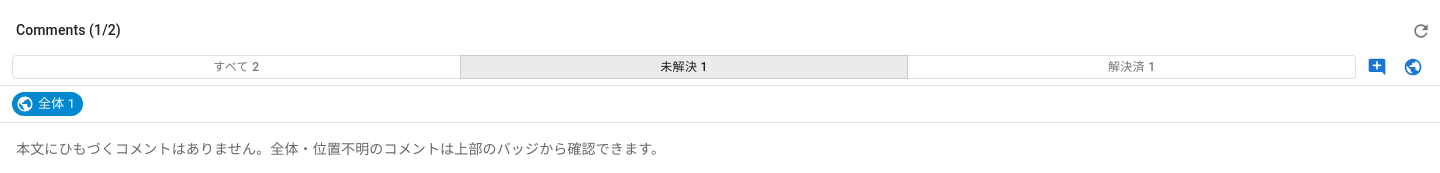
Test: CommentSidePane › global/orphan badges (#316) › follows the status filter: switching to resolved only counts resolved global/orphan comments
Expected: the button with test id "global-comment-badge" reads "全体 1", top-left (12, 92), bottom-right (83, 116)
Click the button with test id "comment-filter-resolved": (1132, 67) top-left (907, 55), bottom-right (1356, 79)
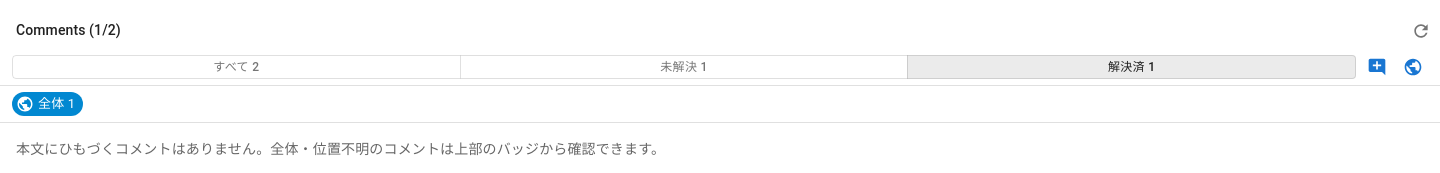
Expected: the button with test id "global-comment-badge" reads "全体 1", top-left (12, 92), bottom-right (83, 116)
Click the button with test id "comment-filter-all": (236, 67) top-left (12, 55), bottom-right (461, 79)
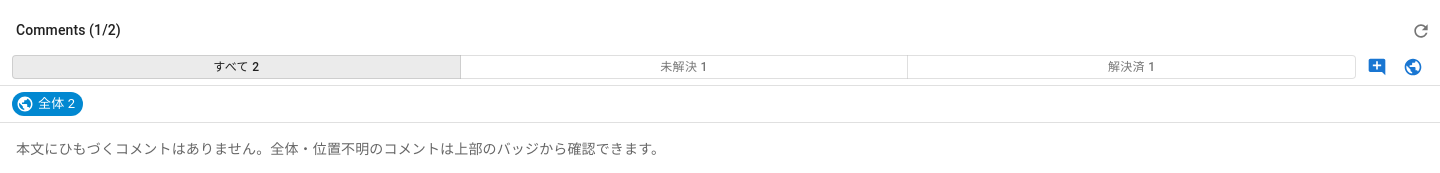
Expected: the button with test id "global-comment-badge" reads "全体 2", top-left (12, 92), bottom-right (83, 116)
